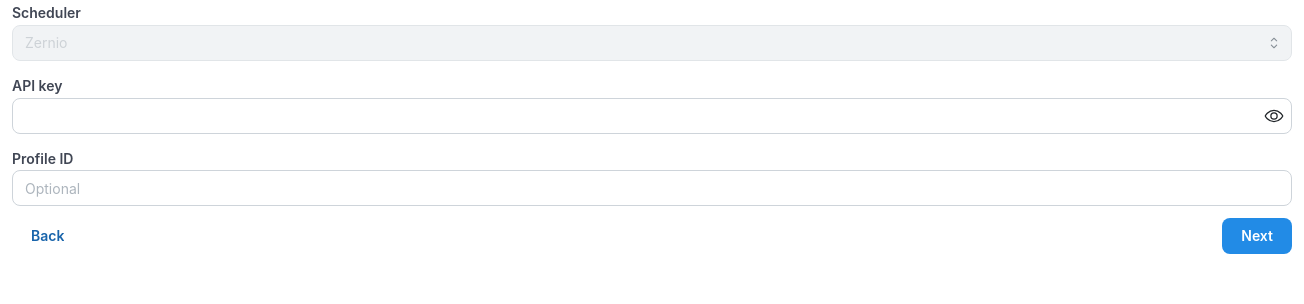
StepScheduler › does not advance when the API key is empty
The image size is (1304, 304).
Click the button "Next" at (1257, 236), box [1222,218,1292,254]
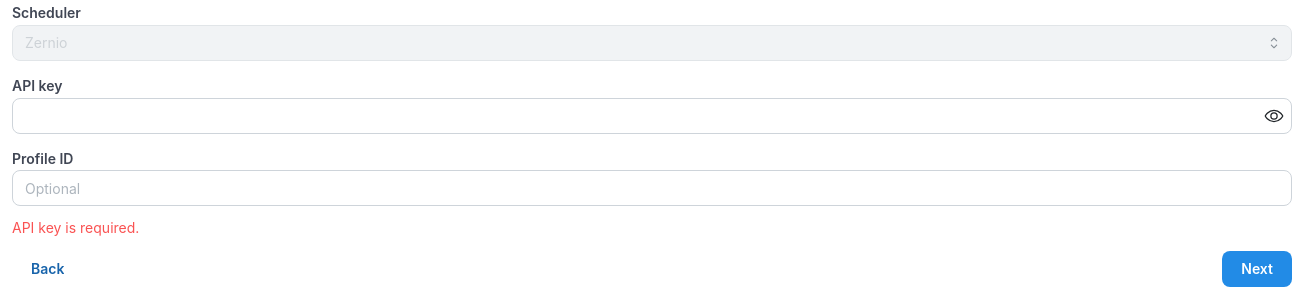
Result: the text "API key is required." is shown at [12,219,139,236]
